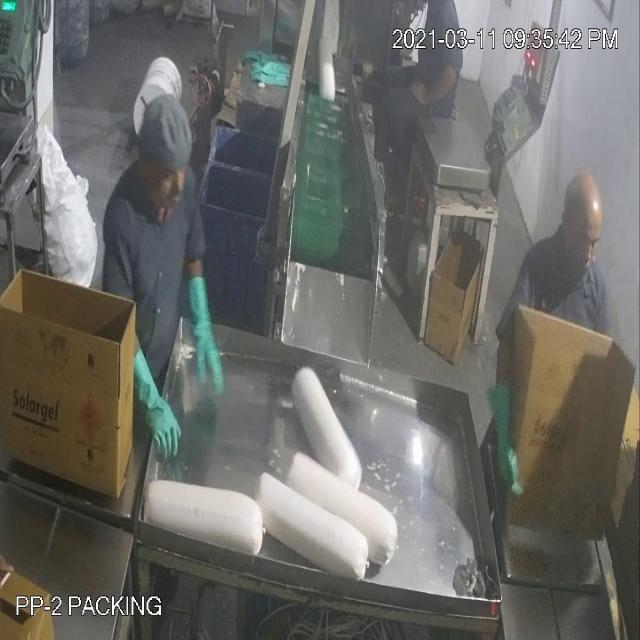No_Gloves: (41, 66, 506, 436)
